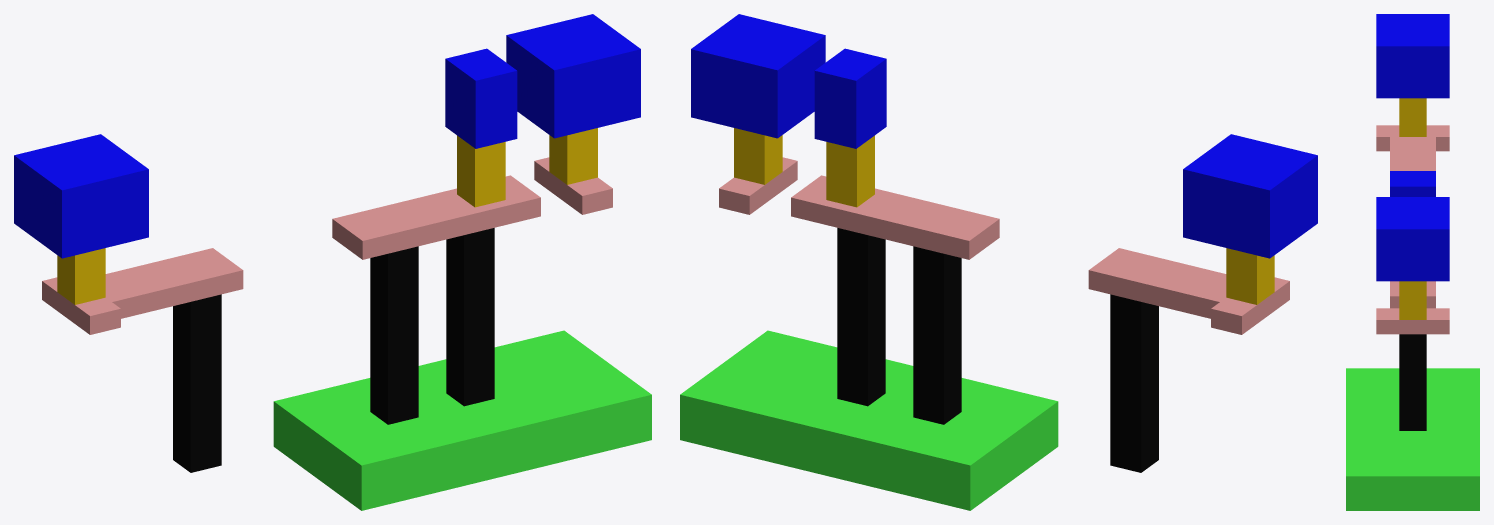
File: sky130_fd_sc_hd__tapvgnd_1.obj
3 renders of one model, left to right at view 1: azimuth 30°, elevation 25°; view 2: azimuth 150°, elevation 25°; view 3: azimuth 270°, elevation 25°, orthographic. The views are drawn at different scales.
Parts seen in each view (by area): view 1: nwell, metal1, licon, li, mcon; view 2: nwell, metal1, licon, li, mcon; view 3: nwell, metal1, li, licon, mcon.
Part boxes in pixels (bbox=[...]): nwell: bbox=[273, 330, 651, 510]; metal1: bbox=[14, 14, 640, 258]; licon: bbox=[173, 228, 494, 472]; li: bbox=[42, 157, 612, 334]; mcon: bbox=[57, 128, 597, 304]; nwell: bbox=[680, 330, 1058, 510]; metal1: bbox=[691, 14, 1317, 258]; licon: bbox=[837, 228, 1158, 472]; li: bbox=[719, 157, 1289, 334]; mcon: bbox=[734, 128, 1274, 304]; nwell: bbox=[1346, 368, 1479, 510]; metal1: bbox=[1376, 14, 1449, 281]; li: bbox=[1376, 125, 1449, 334]; licon: bbox=[1399, 334, 1426, 430]; mcon: bbox=[1399, 98, 1426, 319].
Bounding box in the file's own units: 3.2 × 1.98 × 0.84.
